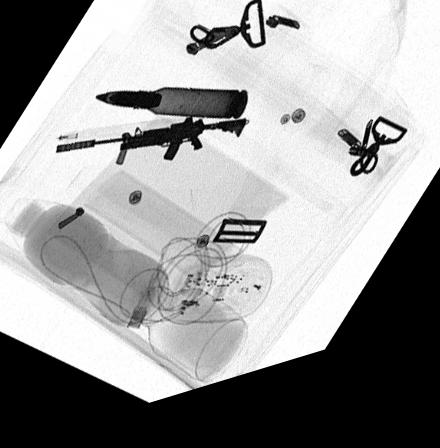Bullet: (93, 95, 250, 133)
Gun: (56, 128, 245, 171)
